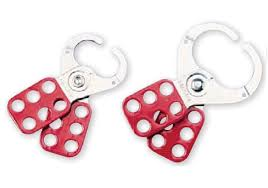hasp: (122, 23, 264, 165), (7, 33, 131, 159)
